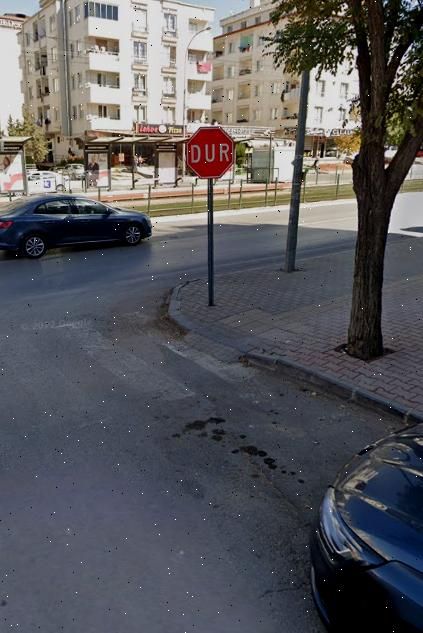stop: (187, 126, 235, 178)
